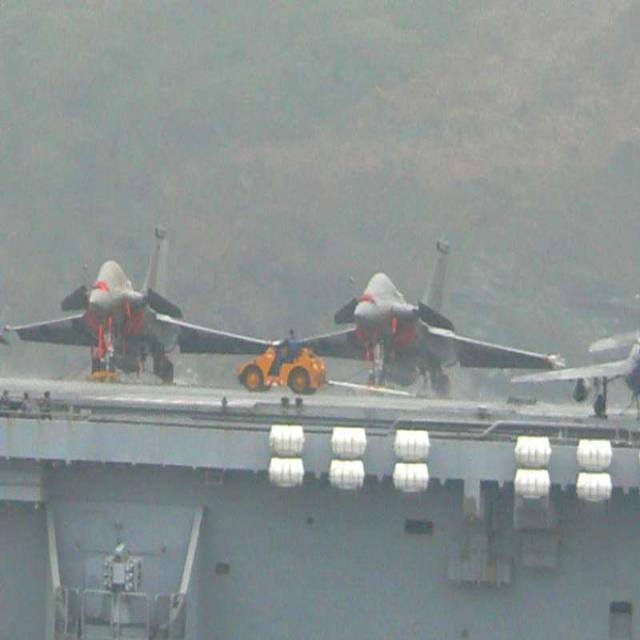Portanaves: (5, 167, 640, 493)
